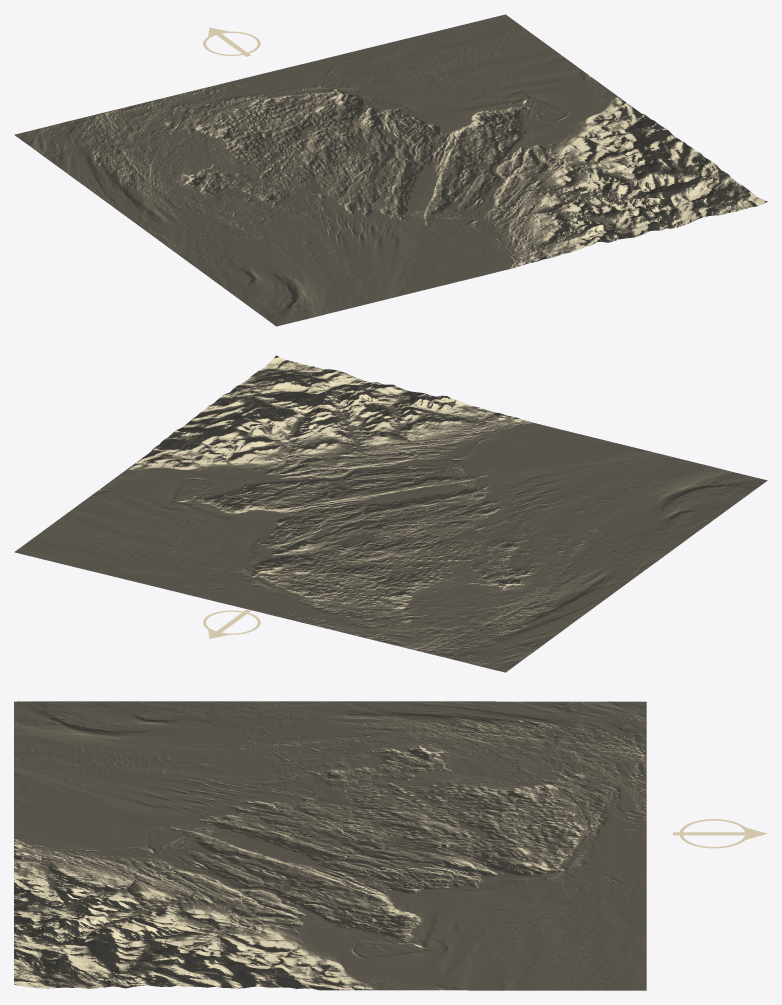
The model's file is anglesey_v3_preview.glb.
3 renders of one model, top to bottom at view 1: azimuth 30°, elevation 25°; view 2: azimuth 150°, elevation 25°; view 3: azimuth 270°, elevation 25°, orthographic. The views are drawn at different scales.
Parts seen in each view (by area): view 1: Oddscape_Terrain_v221_GLB; view 2: Oddscape_Terrain_v221_GLB; view 3: Oddscape_Terrain_v221_GLB.
Part boxes in pixels (x1,y1,x2,y2): Oddscape_Terrain_v221_GLB: [14, 14, 767, 326]; Oddscape_Terrain_v221_GLB: [14, 355, 767, 672]; Oddscape_Terrain_v221_GLB: [14, 701, 767, 990].
Bounding box in the file's own units: 1.6 × 0.0329 × 1.76.
2 materials, 1 textured.
